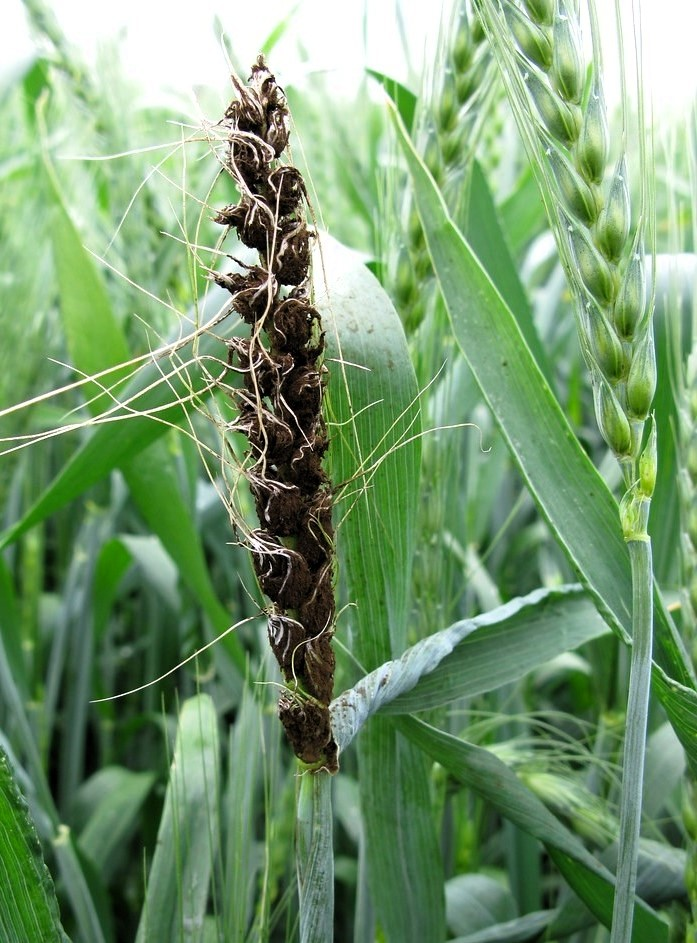Wheat Loose Smut: (179, 82, 361, 658)
